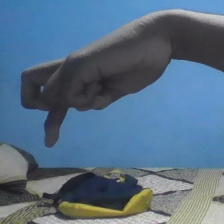P: (16, 6, 174, 151)
